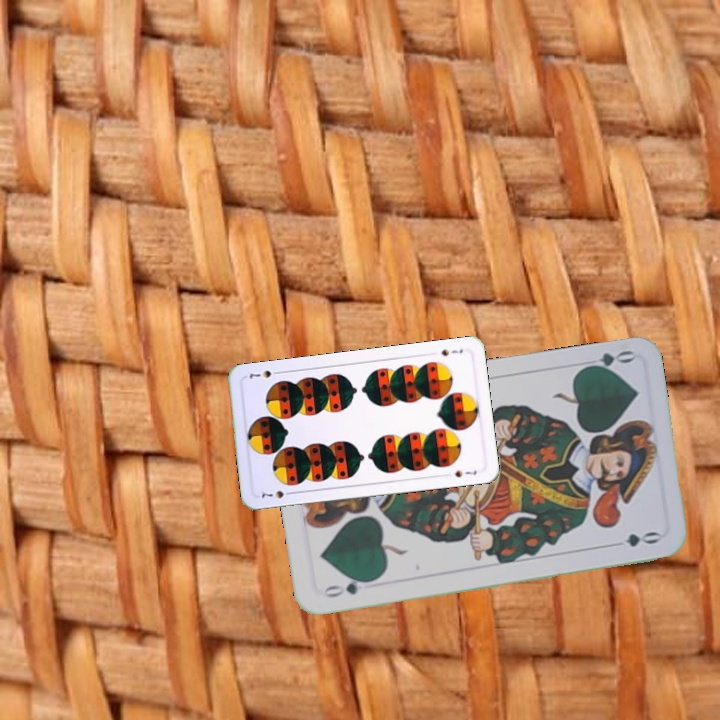GO: (577, 346, 636, 374), (318, 574, 376, 600)
S7: (257, 486, 296, 501), (437, 345, 465, 359)
